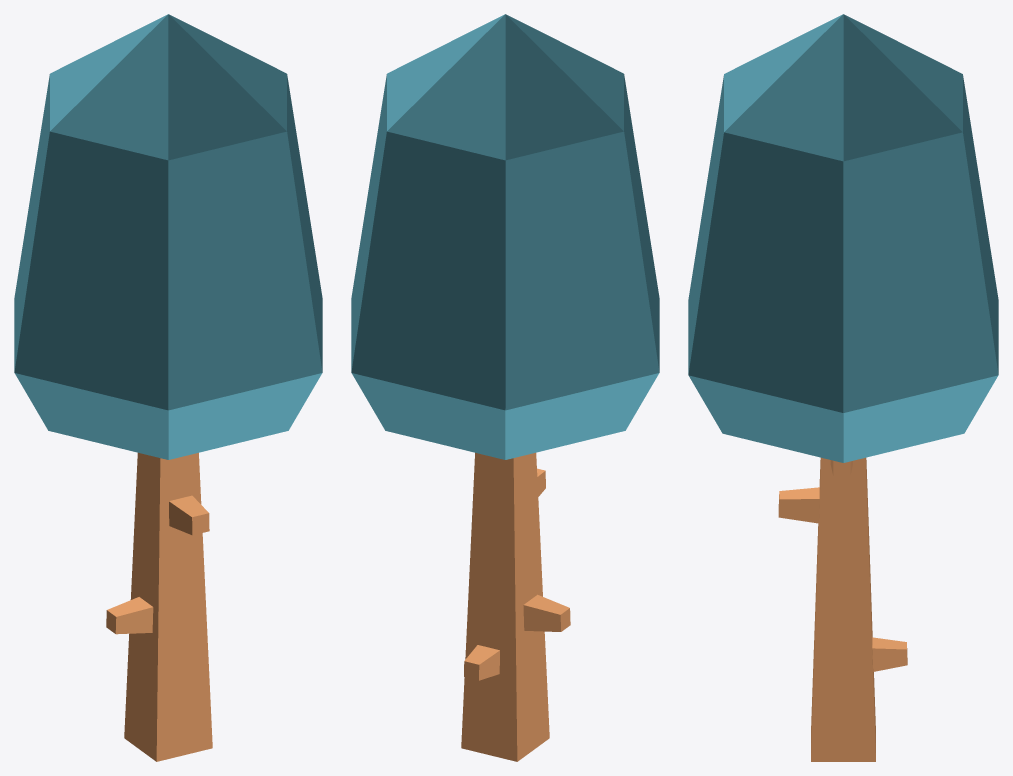
Rendered from tree_default_dark.obj.
3 views of the same model, side by side, from view 1: azimuth 30°, elevation 25°; view 2: azimuth 150°, elevation 25°; view 3: azimuth 270°, elevation 25° (orthographic).
Visible parts, largest first — view 1: tree_default_dark; view 2: tree_default_dark; view 3: tree_default_dark.
Boxes of the visible parts, <box> form: tree_default_dark: <box>14,14,322,761</box>; tree_default_dark: <box>351,14,659,761</box>; tree_default_dark: <box>688,14,998,761</box>.
Bounding box in the file's own units: 7.55 × 17.08 × 6.54.
